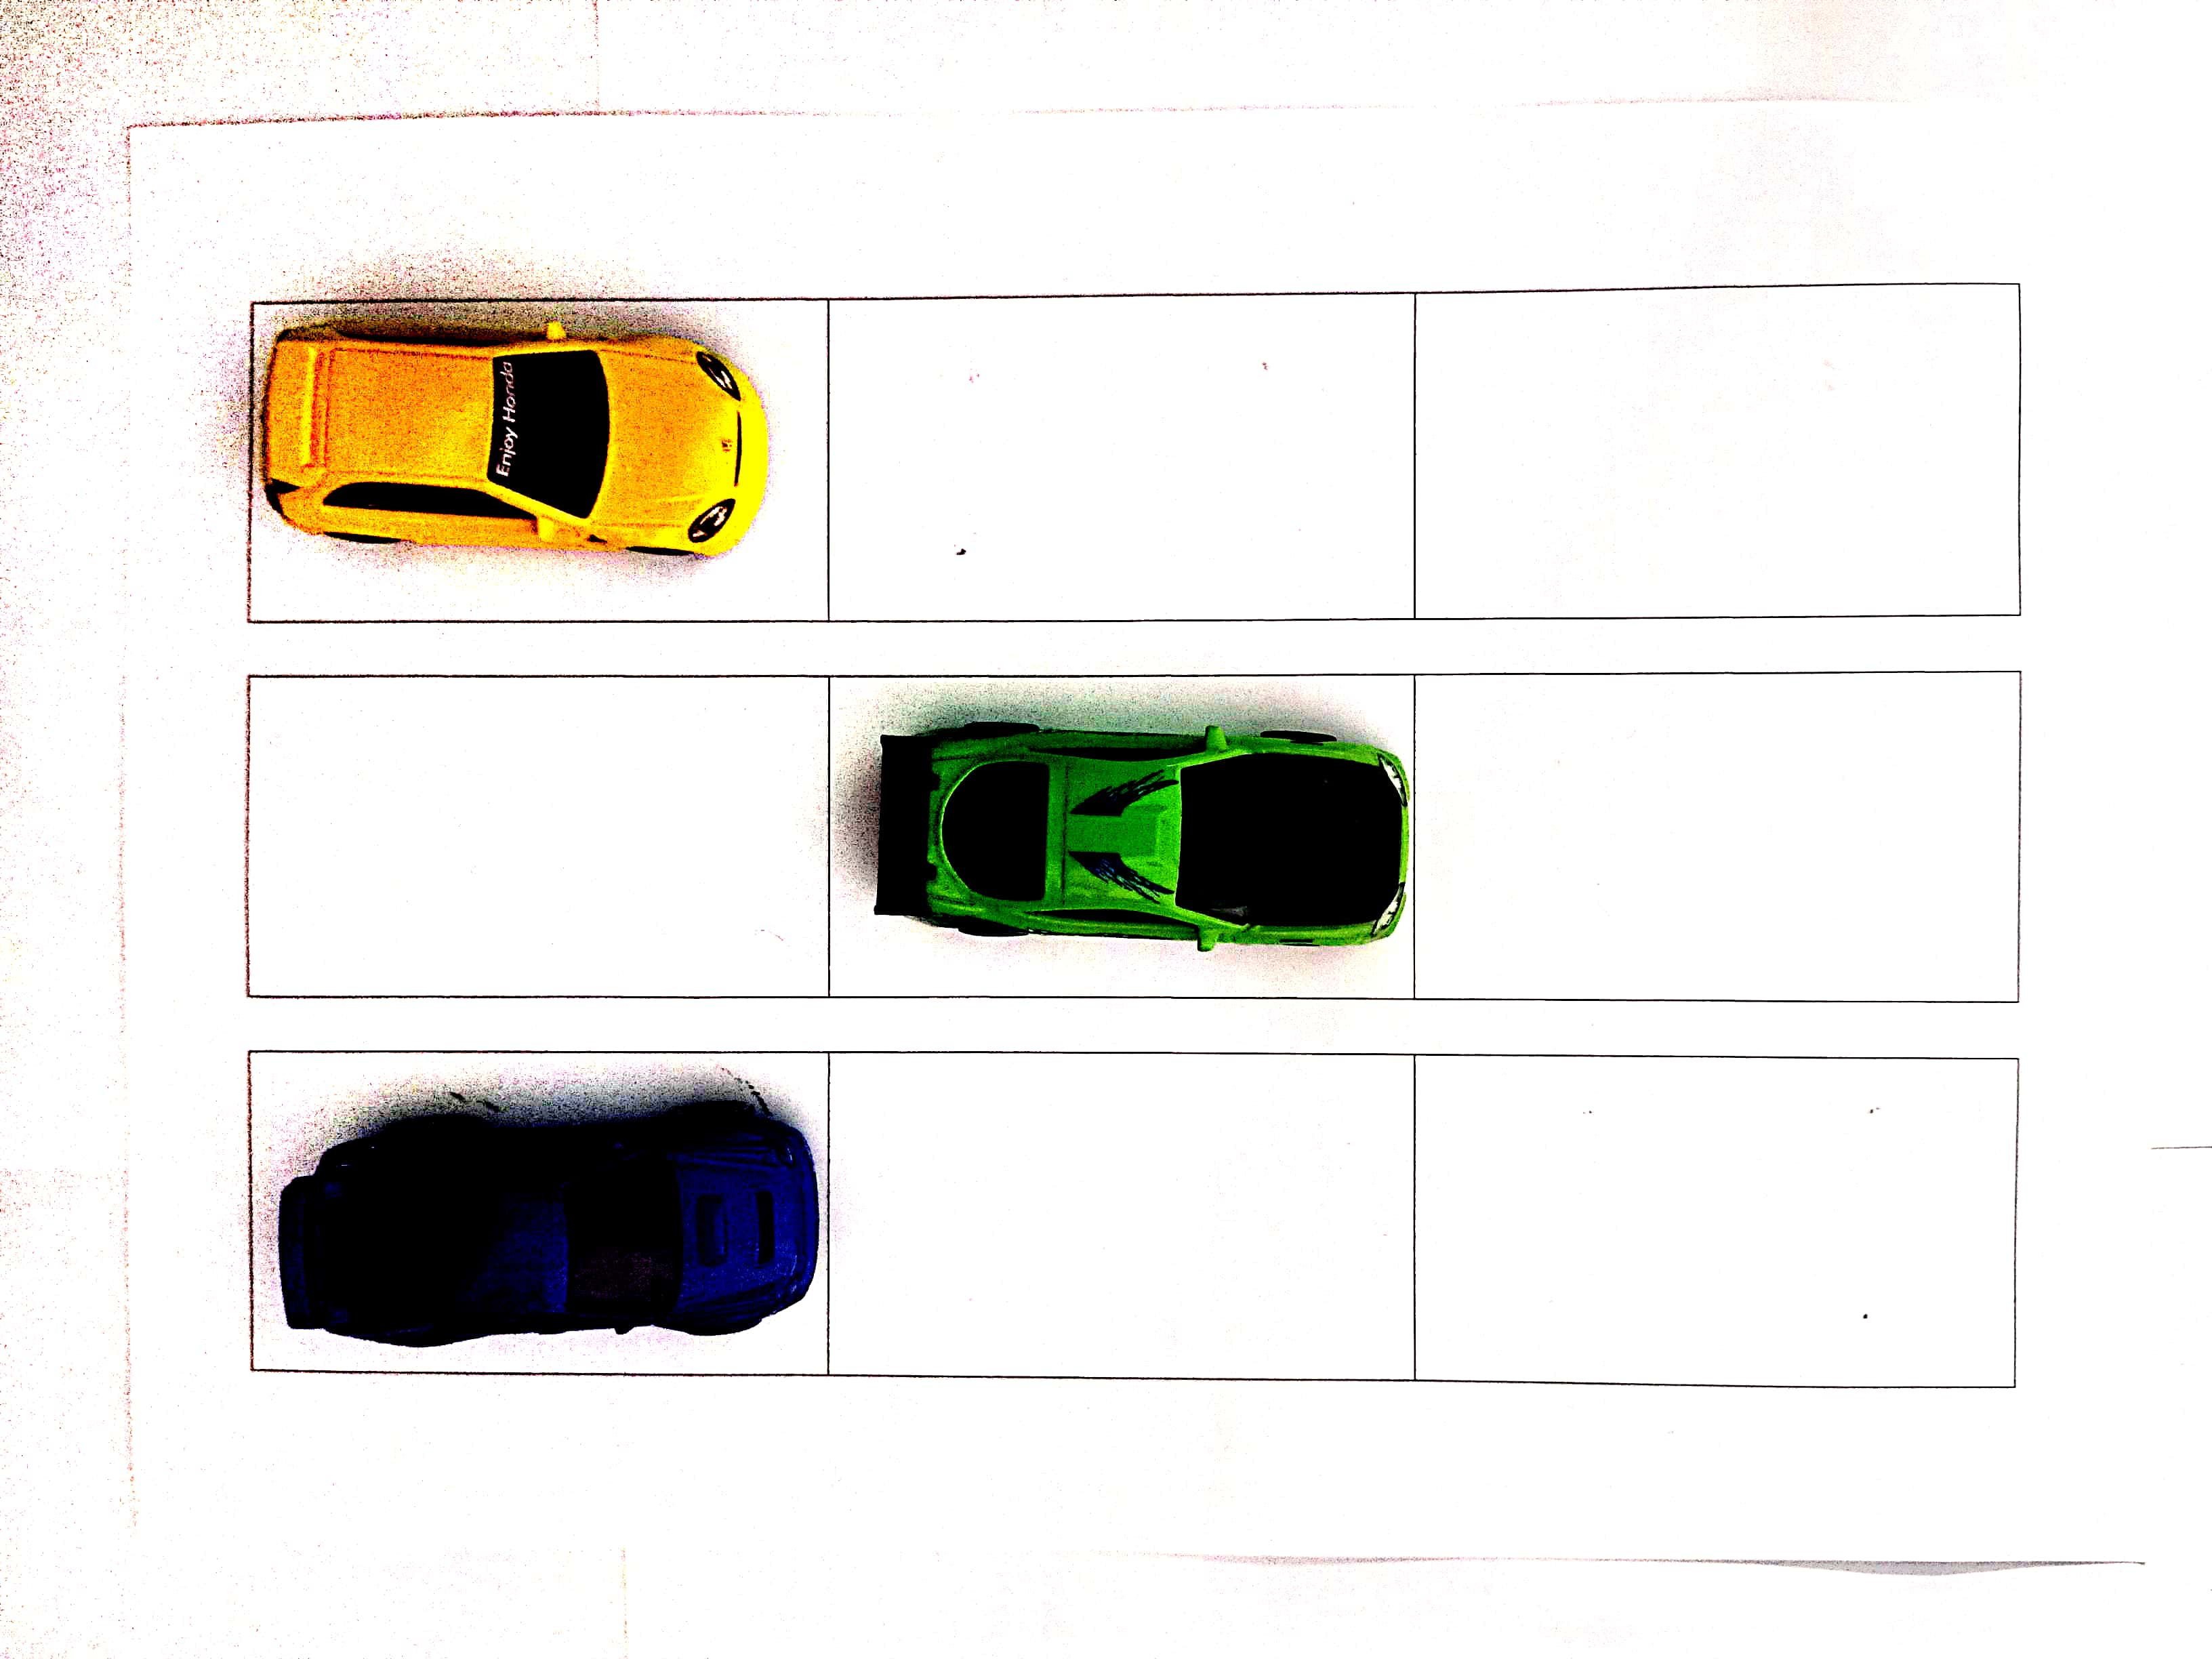Busy: (822, 680, 1418, 1004), (247, 1053, 827, 1371), (249, 307, 829, 619)
Free: (1407, 288, 2026, 619), (1418, 1049, 2017, 1385), (1414, 673, 2022, 1000), (829, 288, 1409, 620), (829, 1054, 1414, 1377), (247, 674, 824, 995)
